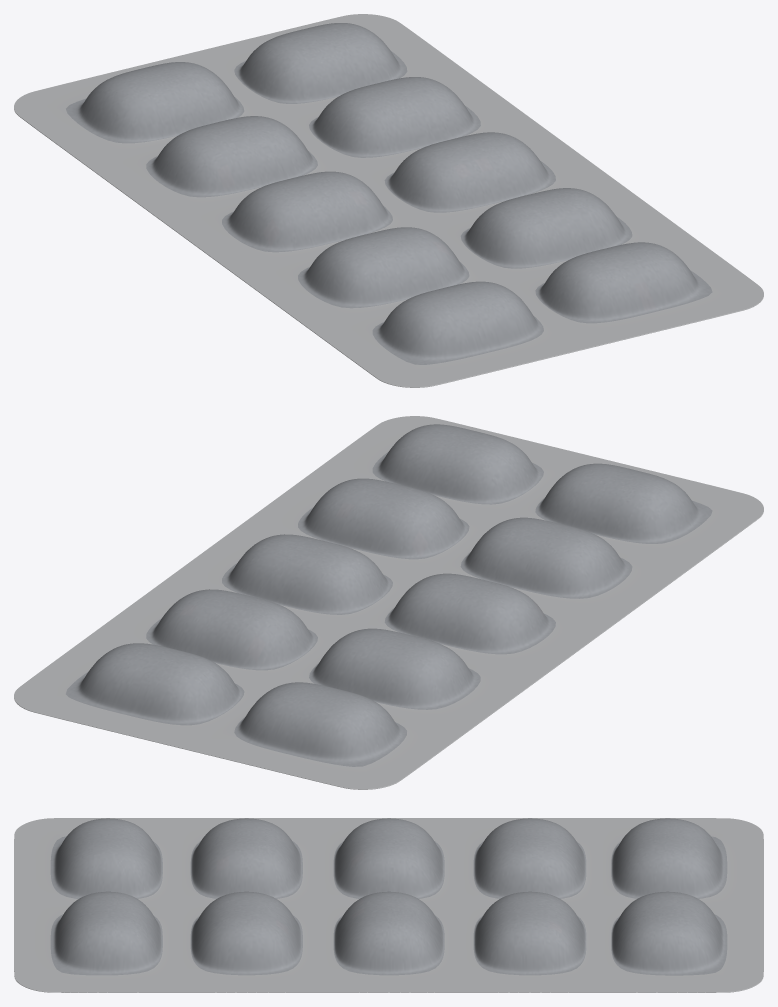
File: plate1.obj
The picture shows the model from 3 angles, top to bottom: view 1: azimuth 30°, elevation 25°; view 2: azimuth 150°, elevation 25°; view 3: azimuth 270°, elevation 25°; orthographic projection. The views are drawn at different scales.
Parts seen in each view (by area): view 1: polySurface6; view 2: polySurface6; view 3: polySurface6.
Part boxes in pixels (left/top/right/bottom): polySurface6: left=14, top=14, right=763, bottom=387; polySurface6: left=14, top=416, right=763, bottom=789; polySurface6: left=14, top=818, right=763, bottom=992.
Size of the model in its own units: 23.8 by 2.25 by 43.36.
Materials: 1 (1 with a texture image).
